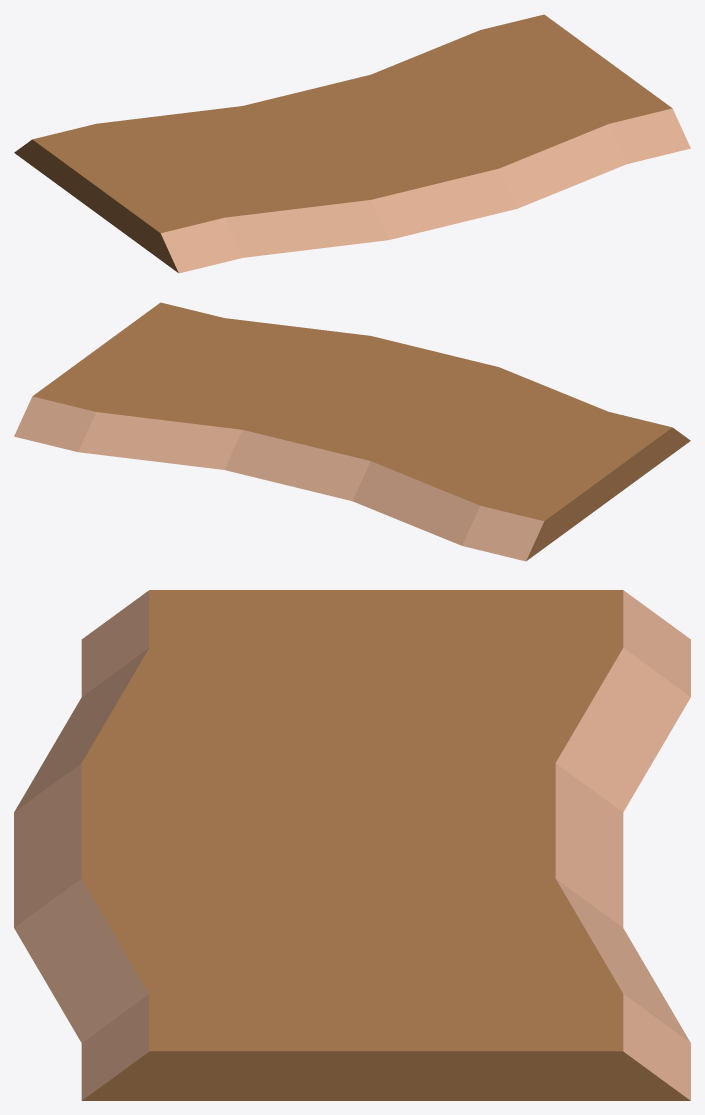
Rendered from crops_dirtRow.glb.
The picture shows the model from 3 angles, top to bottom: view 1: azimuth 30°, elevation 25°; view 2: azimuth 150°, elevation 25°; view 3: azimuth 270°, elevation 25°; orthographic projection. The views are drawn at different scales.
Visible parts, largest first — view 1: crops_dirtRow; view 2: crops_dirtRow; view 3: crops_dirtRow.
Boxes of the visible parts, box(x1,y1,x2,y2) form: crops_dirtRow: box(14, 14, 690, 273); crops_dirtRow: box(14, 302, 690, 561); crops_dirtRow: box(14, 590, 690, 1100).
Size of the model in its own units: 1 by 0.05 by 0.62.
